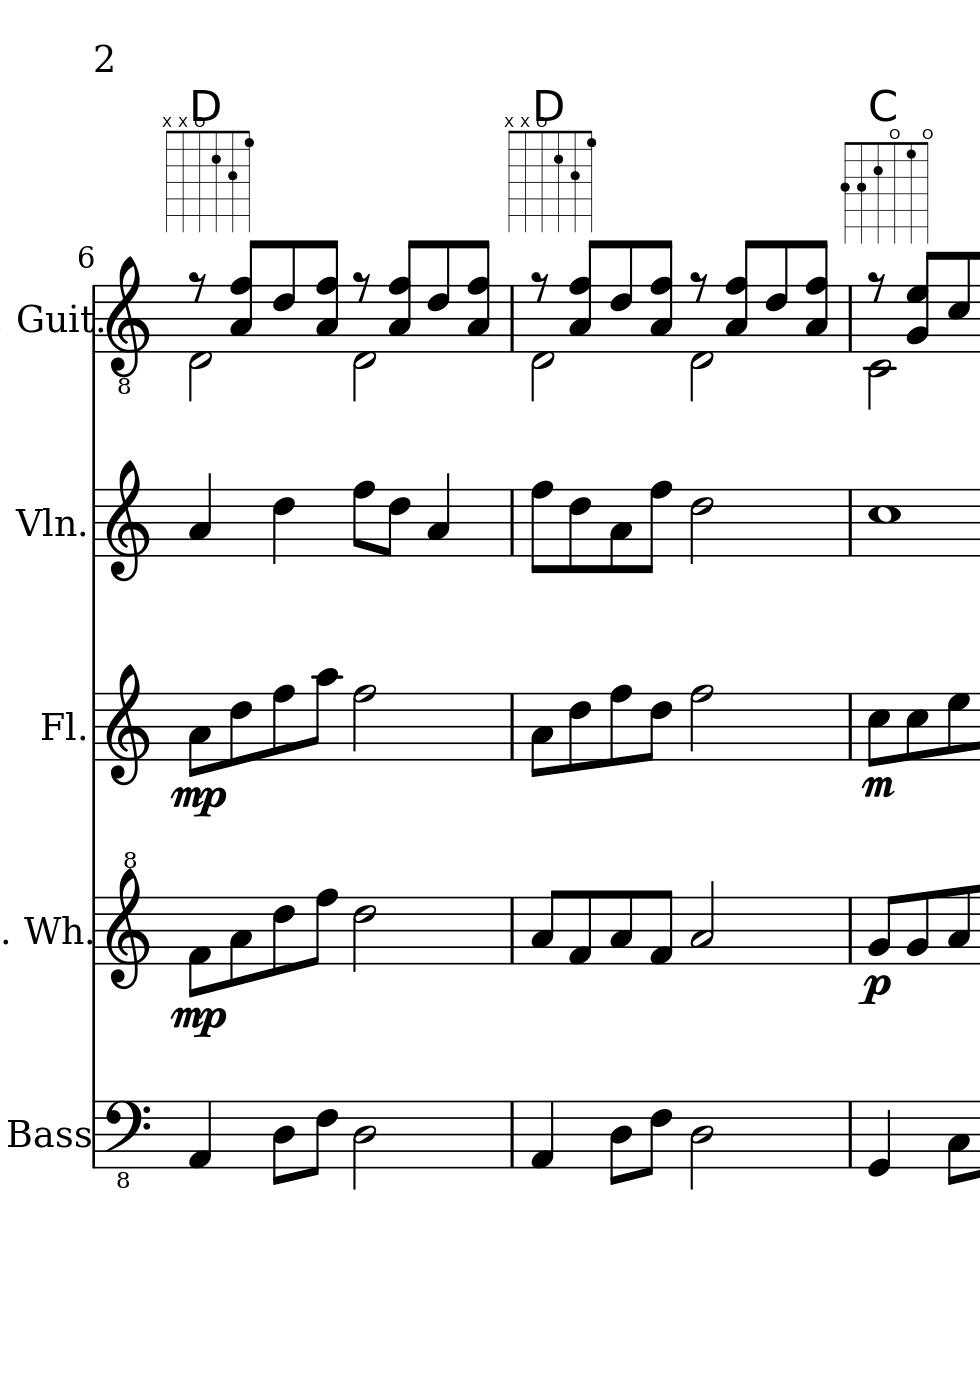1_5: (867, 488, 902, 559)
2: (93, 43, 113, 74)
2_-1: (350, 282, 377, 401), (528, 281, 554, 403), (687, 285, 713, 400), (186, 290, 211, 402)
2_-2: (865, 284, 892, 411)
2_3: (688, 880, 716, 966)
2_4: (688, 1100, 715, 1193), (351, 1101, 377, 1193)
2_6: (687, 488, 713, 567), (351, 896, 377, 973)
2_8: (350, 682, 377, 764), (687, 683, 714, 762)
4_0: (867, 1099, 893, 1179)
4_1: (186, 1099, 213, 1171), (529, 1099, 556, 1171)
4_3: (424, 473, 451, 559), (187, 472, 212, 559)
4_6: (270, 487, 295, 566)
6: (77, 242, 95, 271)
8_1: (186, 895, 211, 996), (647, 889, 673, 967), (567, 888, 593, 967)
8_10: (305, 666, 342, 762)
8_2: (867, 893, 897, 965), (905, 889, 930, 966)
8_2_7: (905, 251, 937, 354)
8_3: (529, 888, 562, 966), (525, 692, 553, 780), (227, 895, 252, 988), (606, 488, 633, 574), (944, 1098, 970, 1187), (607, 889, 634, 966), (946, 884, 972, 966), (186, 690, 209, 775)
8_3_8: (230, 239, 264, 355), (388, 239, 422, 355), (565, 239, 599, 355), (721, 236, 755, 353), (804, 239, 832, 353), (465, 239, 492, 353), (313, 239, 340, 353), (647, 239, 673, 353)
8_4: (606, 1100, 632, 1188), (269, 1099, 295, 1188)
8_5: (946, 249, 972, 356), (903, 691, 929, 764), (865, 691, 890, 766)
8_6: (606, 236, 637, 358), (762, 236, 792, 358), (424, 238, 455, 357), (269, 236, 299, 356), (640, 1099, 672, 1177), (307, 1099, 338, 1177), (565, 486, 591, 575), (642, 692, 672, 764), (564, 691, 590, 774), (269, 894, 294, 978), (226, 691, 251, 769), (382, 488, 409, 558)
8_7: (945, 691, 970, 762)
8_8: (640, 479, 672, 574), (307, 887, 338, 969), (528, 478, 554, 576), (606, 683, 632, 768), (350, 479, 375, 559), (270, 683, 294, 764)
Bass: (3, 1115, 95, 1157)
Fl: (37, 707, 77, 745)
Fretboard: (162, 127, 259, 235), (503, 128, 598, 236), (838, 138, 933, 246)
Gclef: (104, 460, 151, 583), (104, 662, 148, 783)
Guit: (16, 298, 90, 340)
High_Gclef: (104, 849, 148, 990)
Lower_Fclef: (103, 1100, 151, 1188)
Lower_Gclef: (104, 255, 151, 394)
Rests8: (347, 262, 374, 303), (683, 264, 711, 303), (525, 263, 552, 301), (185, 267, 208, 302), (867, 268, 887, 302)
Single_barline: (839, 692, 863, 761), (840, 897, 860, 964), (842, 285, 861, 353), (841, 489, 860, 556), (503, 694, 521, 762), (503, 489, 521, 556), (842, 1101, 859, 1169), (504, 285, 521, 352), (504, 897, 521, 963), (86, 897, 102, 966), (504, 1101, 520, 1168), (87, 692, 102, 762), (87, 489, 102, 558), (88, 285, 102, 355), (88, 1101, 101, 1168)
Vln: (15, 502, 77, 544)
Wh: (23, 912, 83, 948)
mp: (167, 1004, 231, 1040), (168, 783, 229, 820), (858, 772, 895, 800)
p: (857, 973, 891, 1007)
